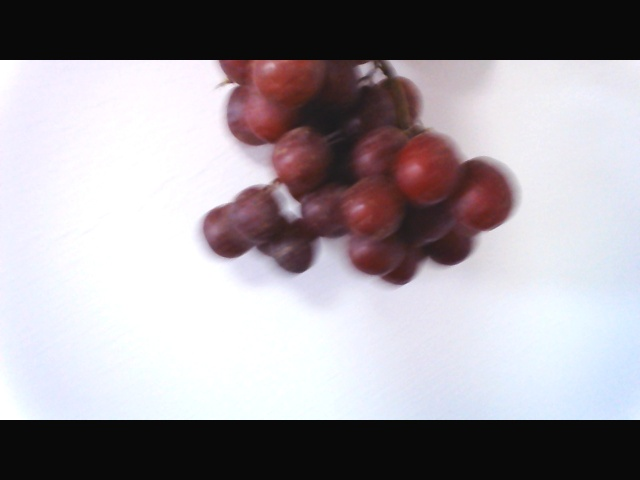grape: (169, 56, 511, 290)
